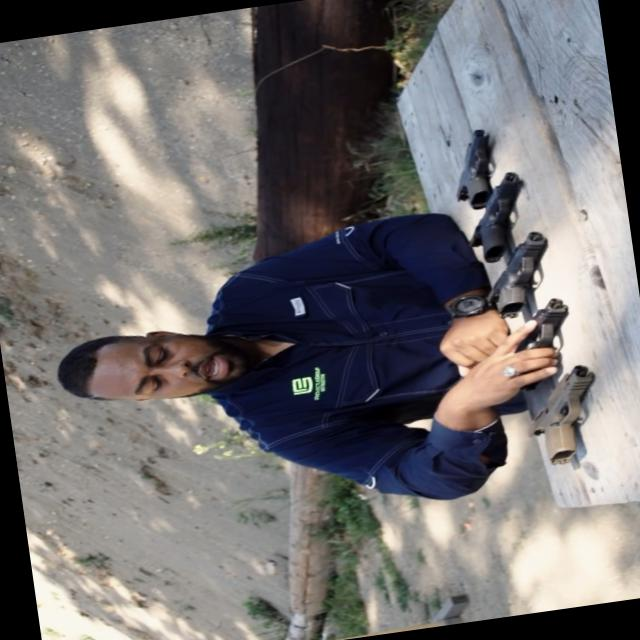handgun: (506, 356, 614, 478), (457, 229, 582, 325), (447, 166, 556, 260), (473, 295, 581, 388), (432, 125, 527, 216)
